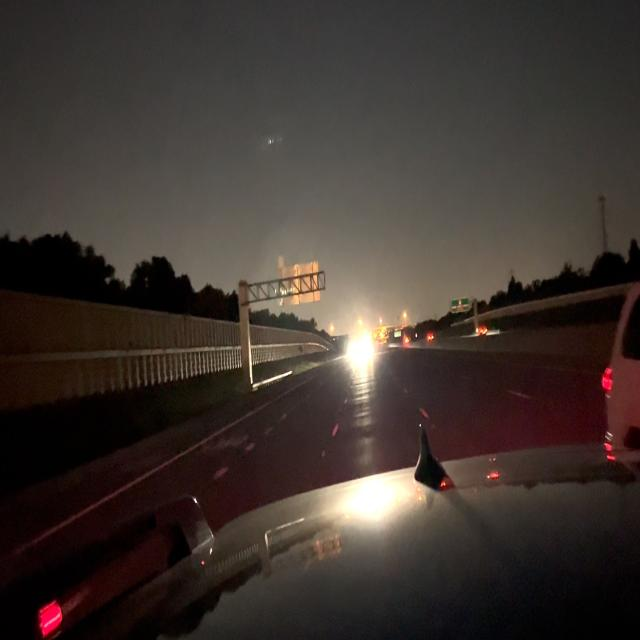back-of-sign: (278, 264, 323, 307)
